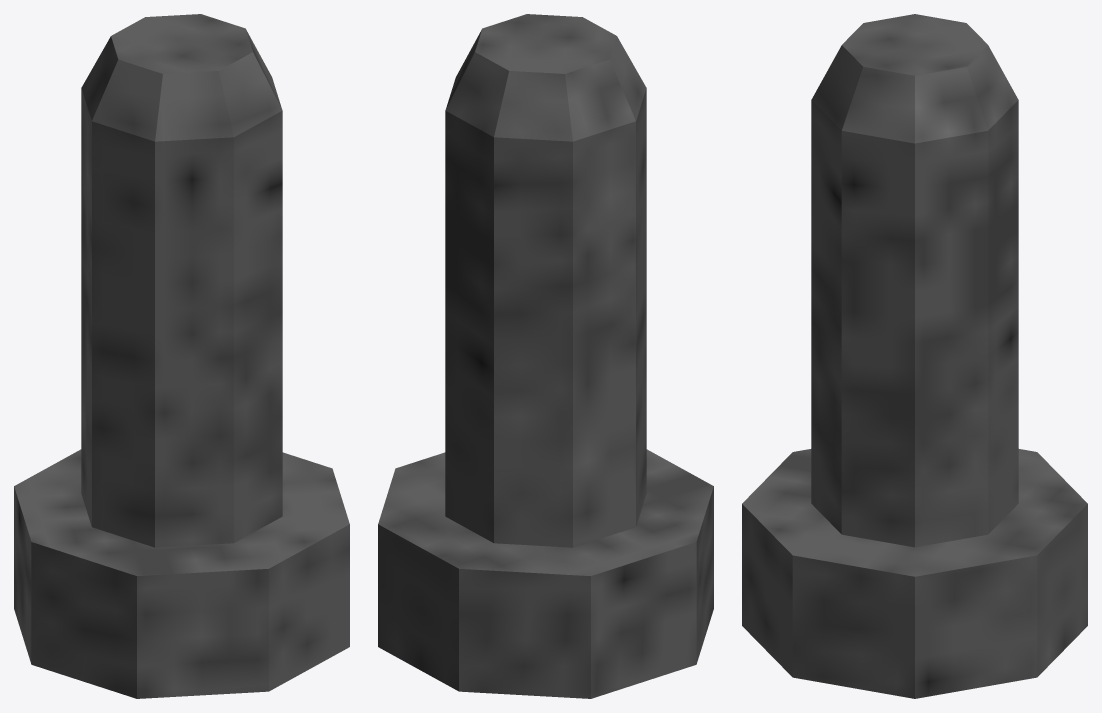
Rendered from Scrap2.fbx.
3 renders of one model, left to right at view 1: azimuth 30°, elevation 25°; view 2: azimuth 150°, elevation 25°; view 3: azimuth 270°, elevation 25°, orthographic.
Visible parts, largest first — view 1: Cylinder.002; view 2: Cylinder.002; view 3: Cylinder.002.
Part boxes in pixels (x1,y1,x2,y2): Cylinder.002: (14, 14, 349, 698); Cylinder.002: (378, 14, 713, 698); Cylinder.002: (742, 14, 1087, 698).
Bounding box in the file's own units: 36.75 × 68.12 × 36.75.
